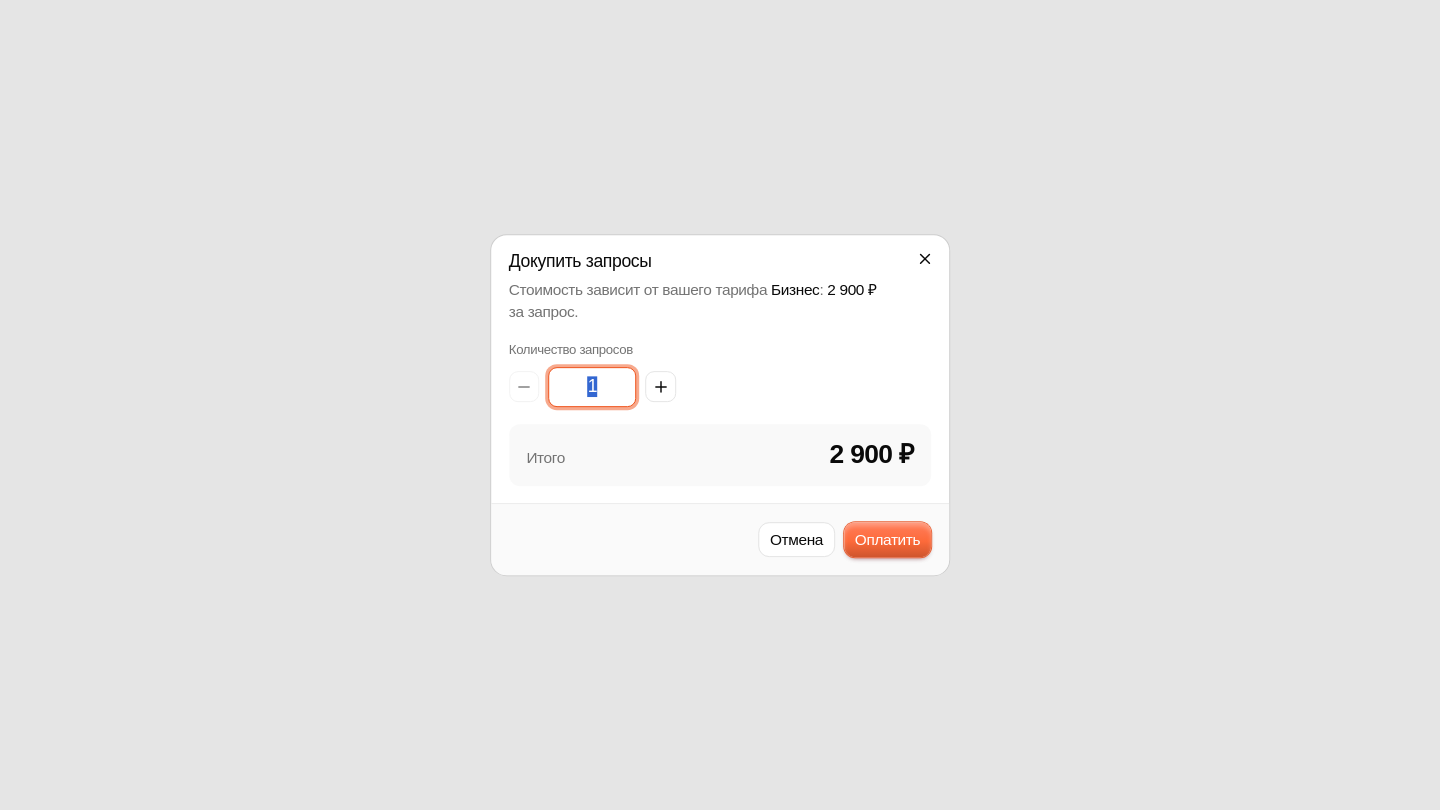
Test case: TopUpRequestsDialog › total updates when quantity changes via +
This screenshot has width=1440, height=810.
Check: the text with test id "top-up-total" reads "2 900 ₽", box [830, 440, 914, 470]
Step 1. Click the button named "увеличить" → (661, 387), box [645, 372, 676, 402]
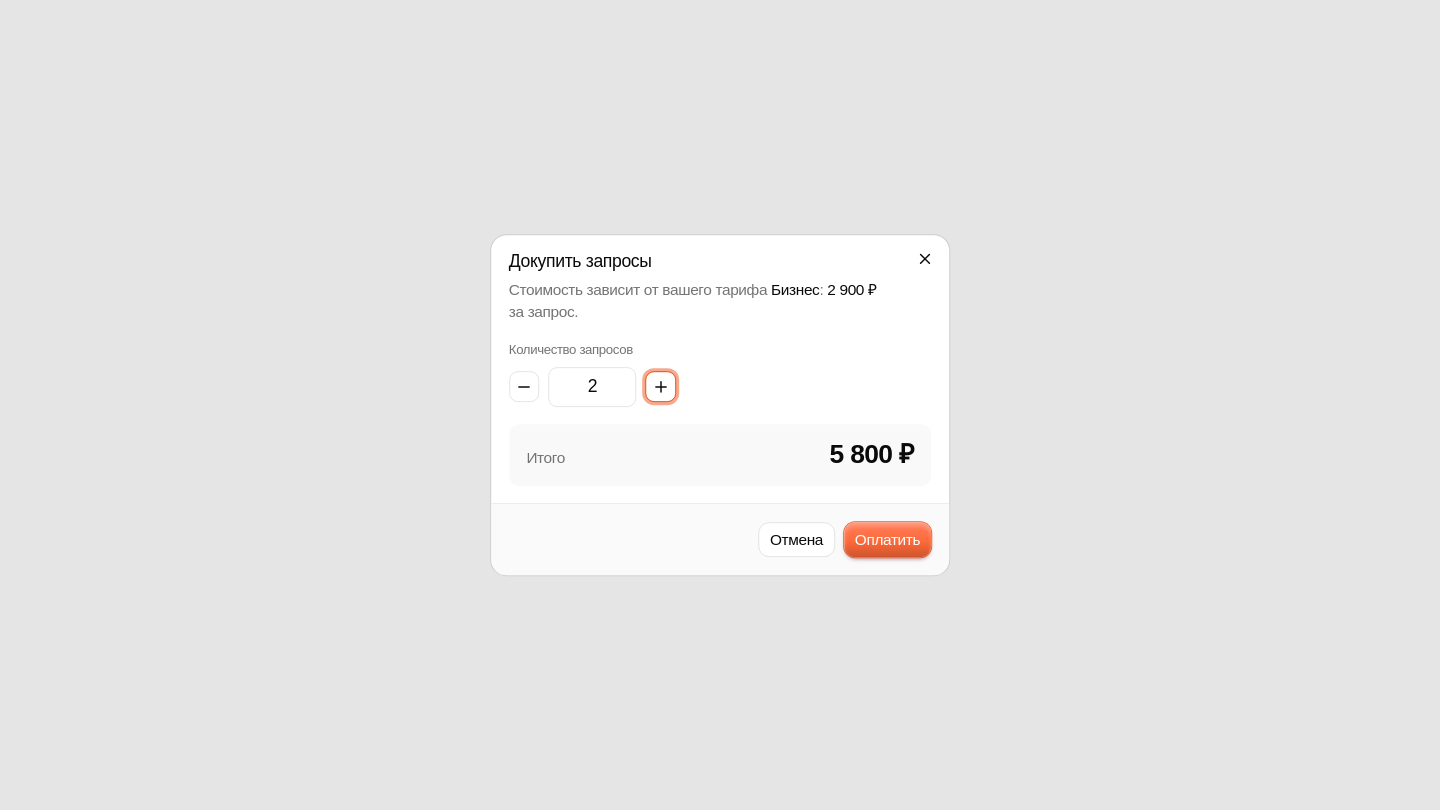
Step 2. Click the button named "увеличить" → (661, 387), box [645, 372, 676, 402]
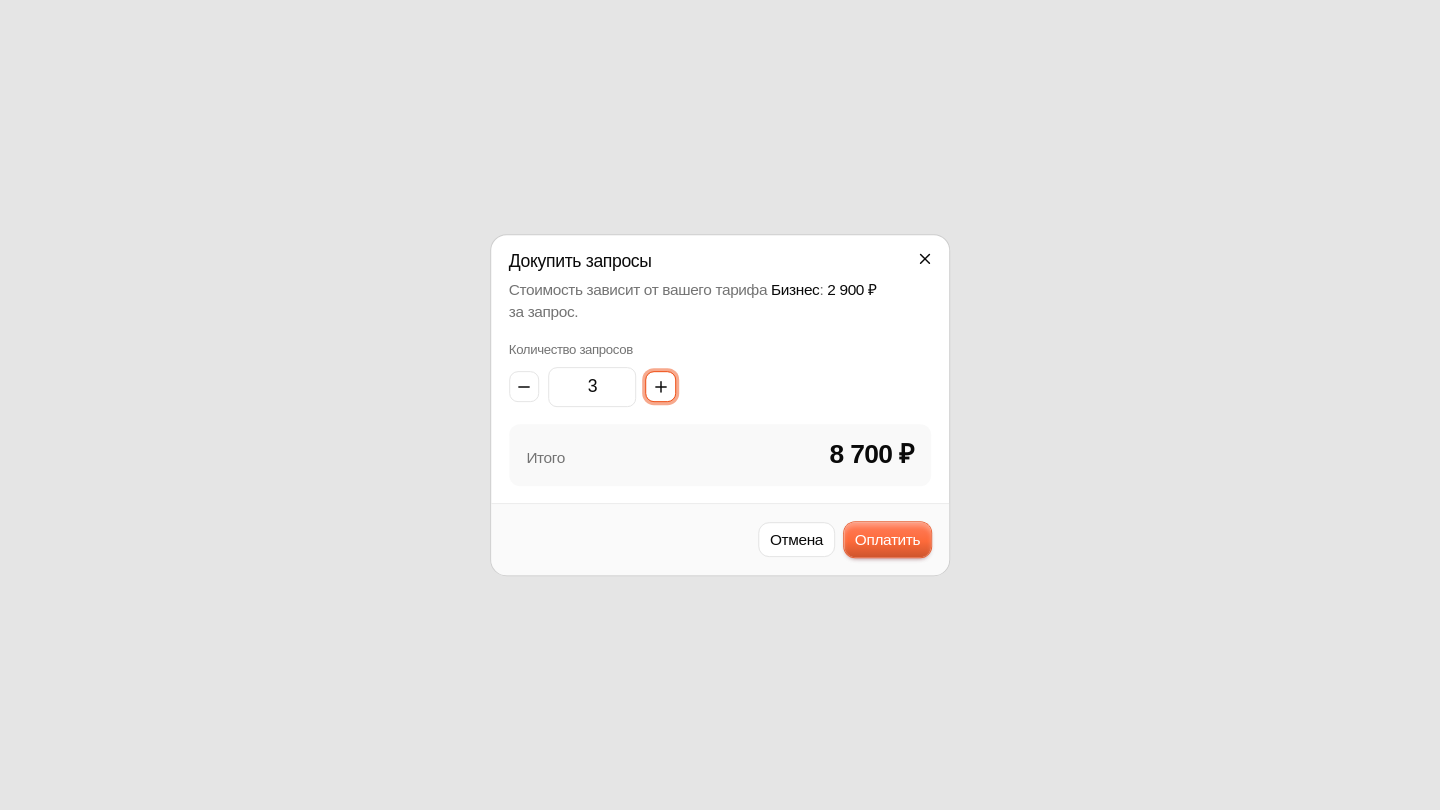
Check: the text with test id "top-up-total" reads "8 700 ₽", box [830, 440, 914, 470]
